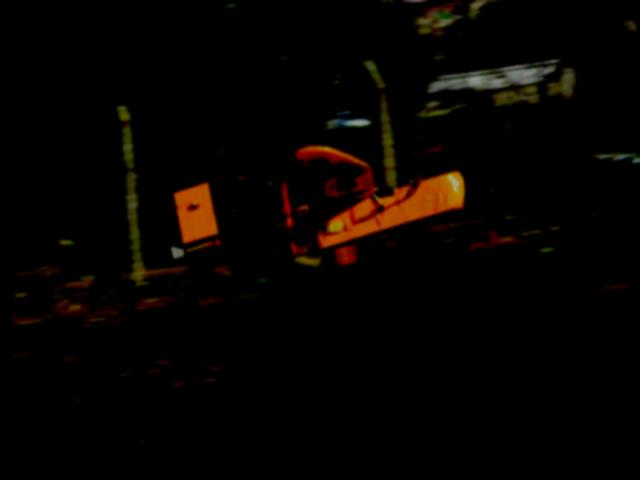iha: (136, 134, 478, 299)
